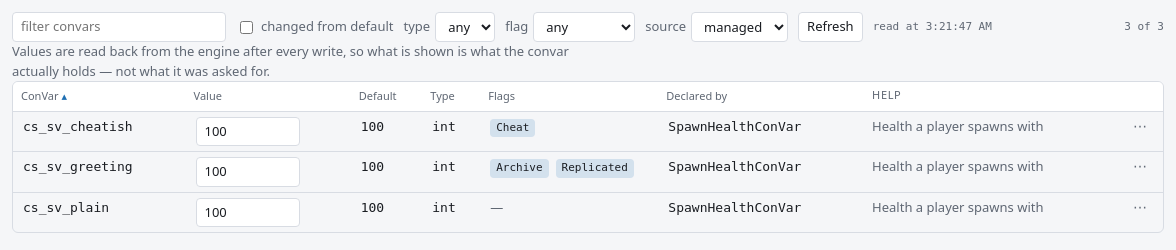
Test: filtering by flag › can ask for the ones with no flags at all
Expected: the text "cs_sv_greeting" is shown, x1=13 y1=152 x2=186 y2=192
Select "(none)" in the dropdown labelled "flag" at (584, 27), box x1=533 y1=12 x2=635 y2=42
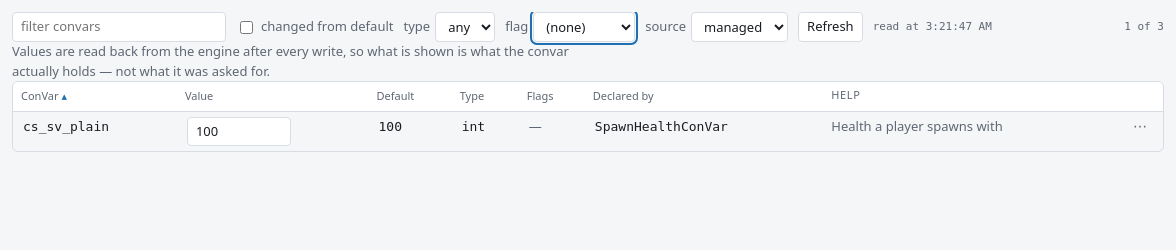
Expected: the text "cs_sv_plain" is shown, x1=13 y1=111 x2=177 y2=151
Now the text "cs_sv_greeting" is gone
